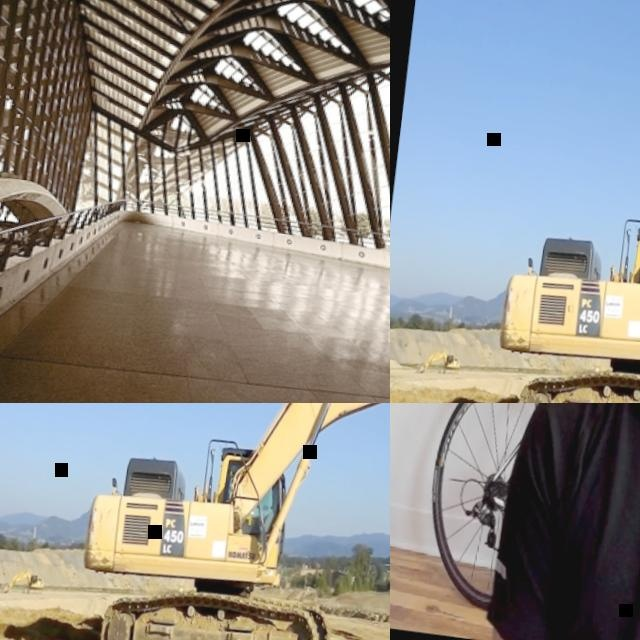NO-Safety Vest: (510, 403, 640, 640)
Person: (476, 403, 640, 640), (449, 356, 453, 362), (33, 576, 37, 582)
machinery: (67, 403, 390, 640), (483, 23, 640, 403), (414, 347, 460, 378), (0, 567, 44, 598)
